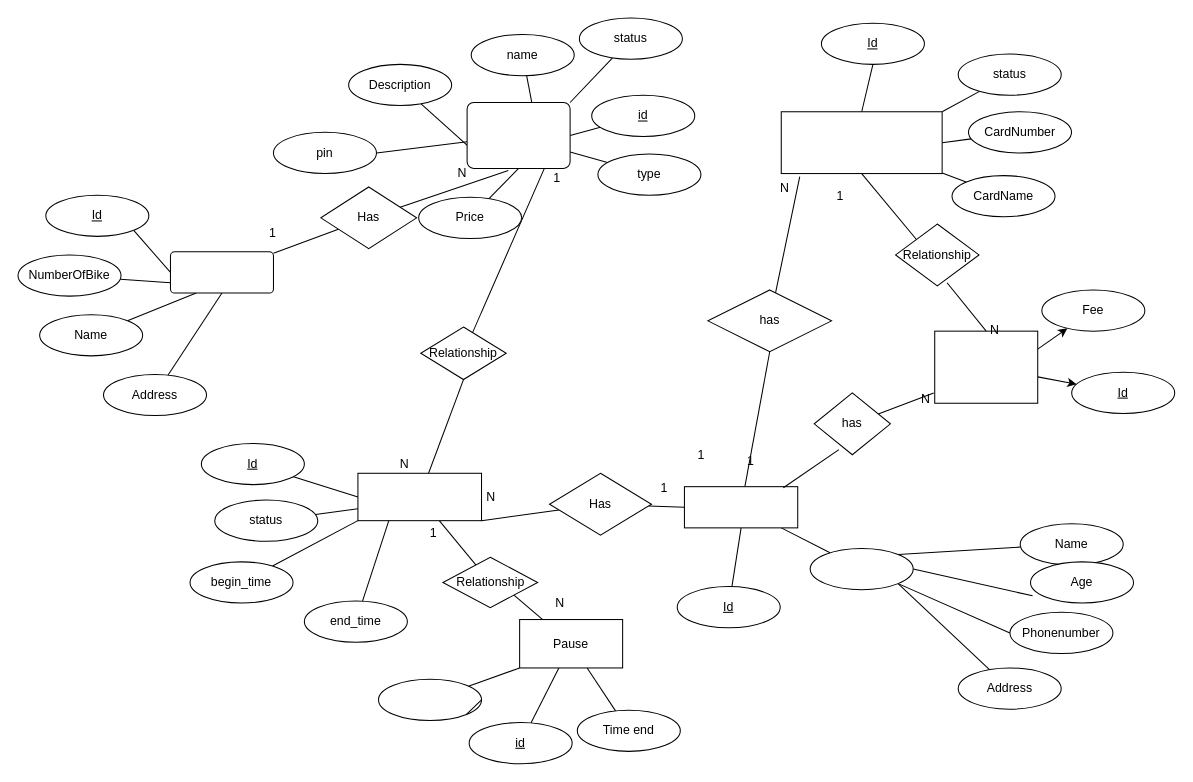
This 1193x782 diagram has some shape labels left out. The shapes that lost their labels are listed below. From the top down, each one's centre as x and y in pixels, then its label:
At (x=518, y=134): "Bike".
At (x=861, y=142): "Card".
At (x=221, y=272): "Bycicle Parking".
At (x=986, y=366): "Transaction".
At (x=419, y=496): "BikeRental".
At (x=740, y=507): "User".
At (x=861, y=568): "Information".
At (x=429, y=699): "Time start".
